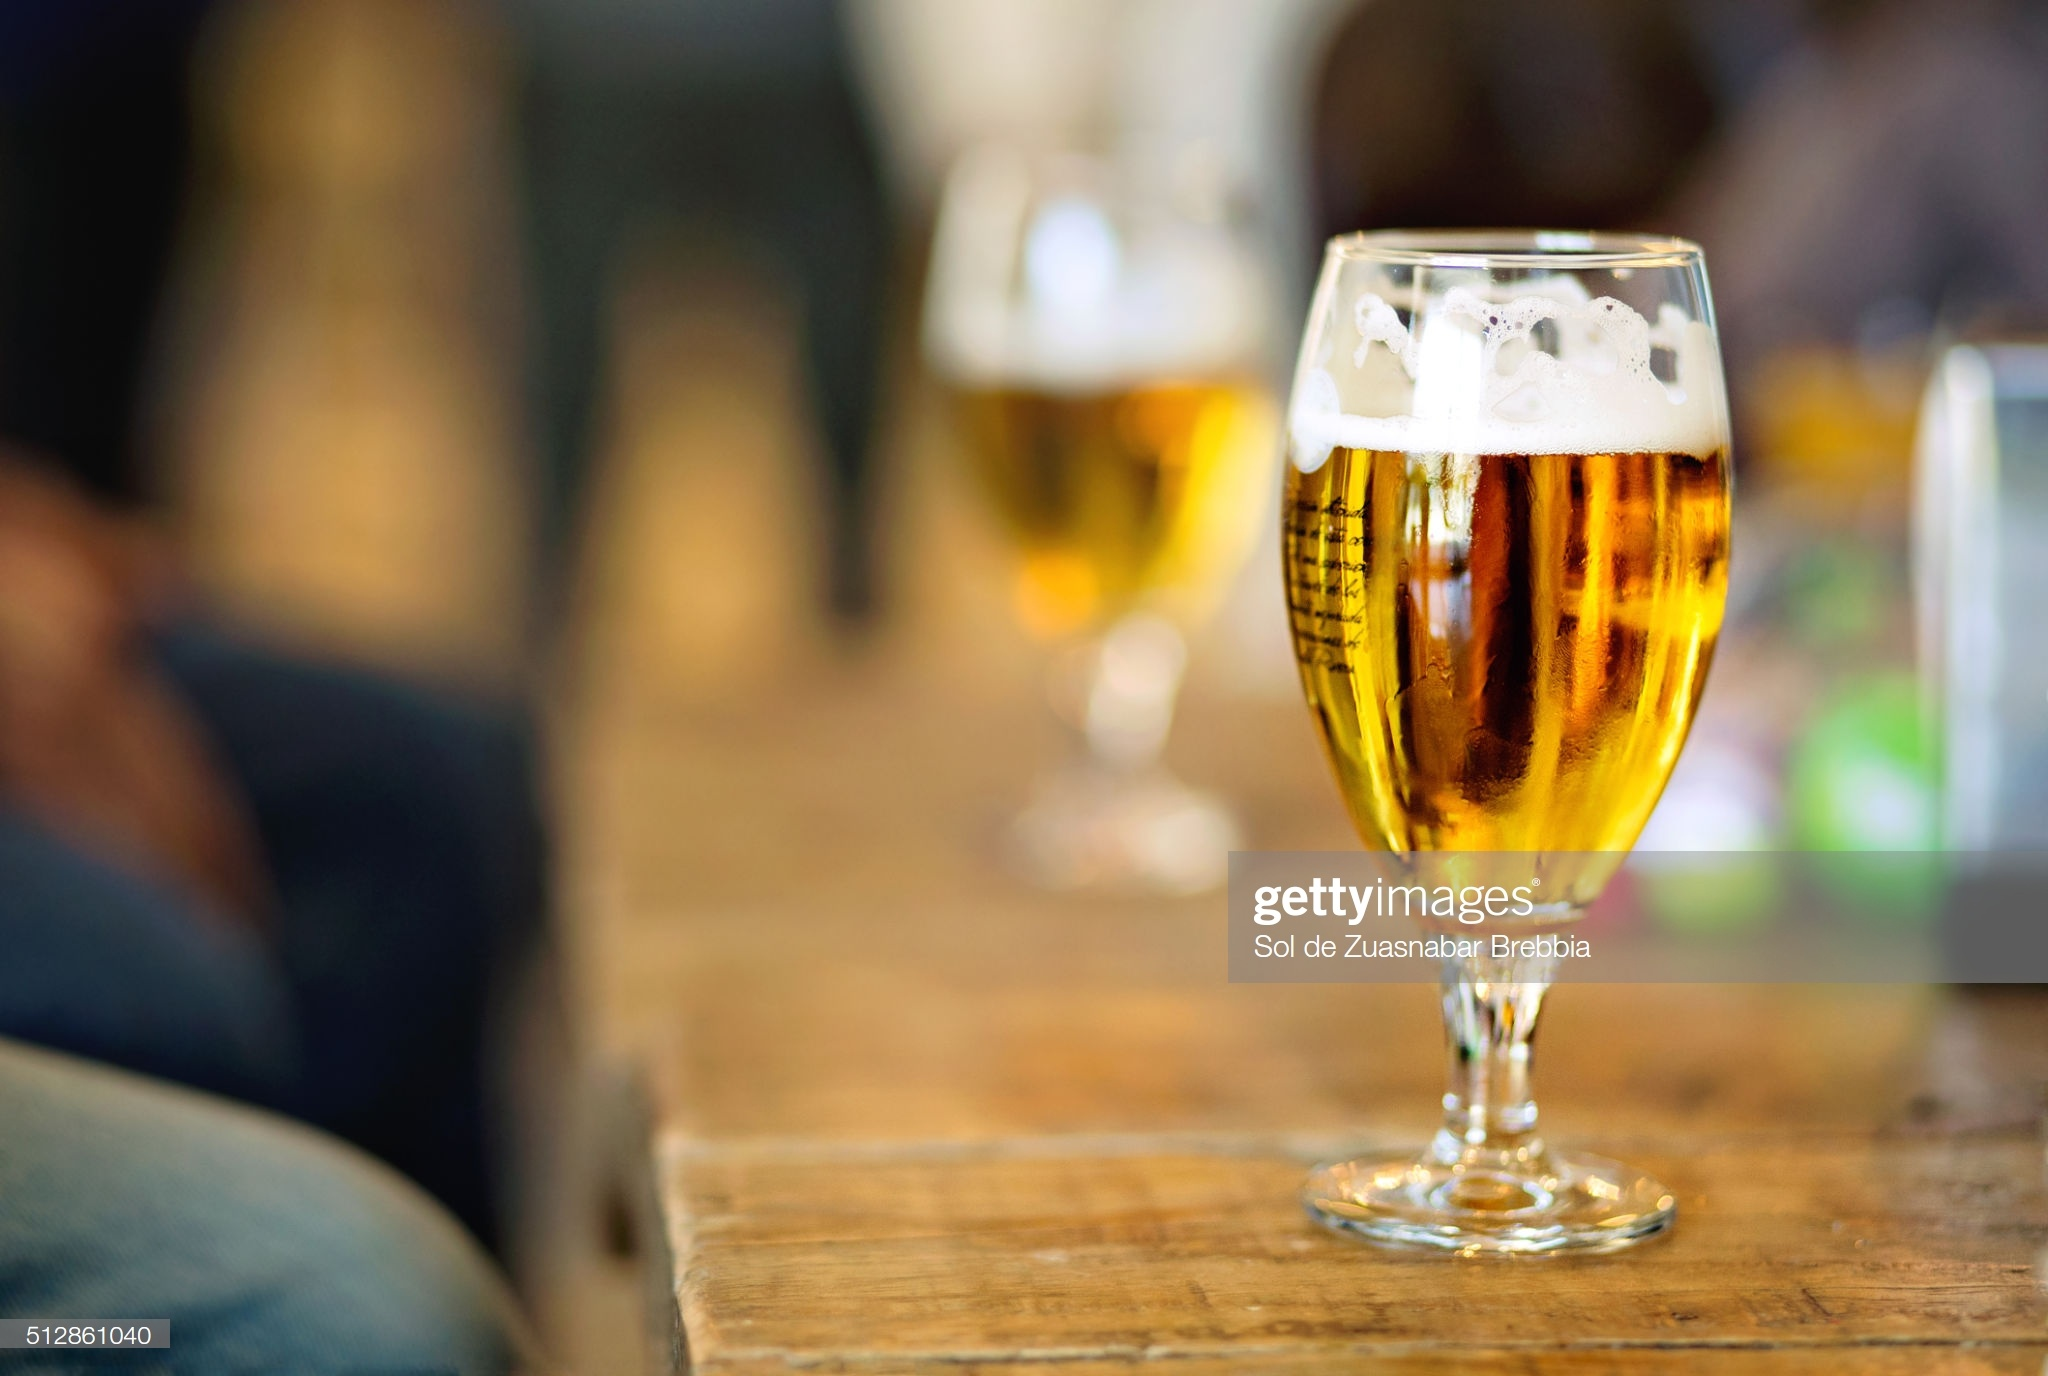glassBeer: (1287, 229, 1726, 1229)
